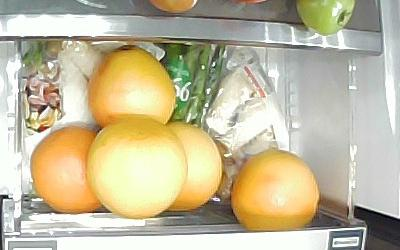grapefruit: (84, 114, 189, 218), (87, 44, 176, 129), (229, 147, 319, 230), (29, 124, 99, 213), (162, 119, 222, 211)
